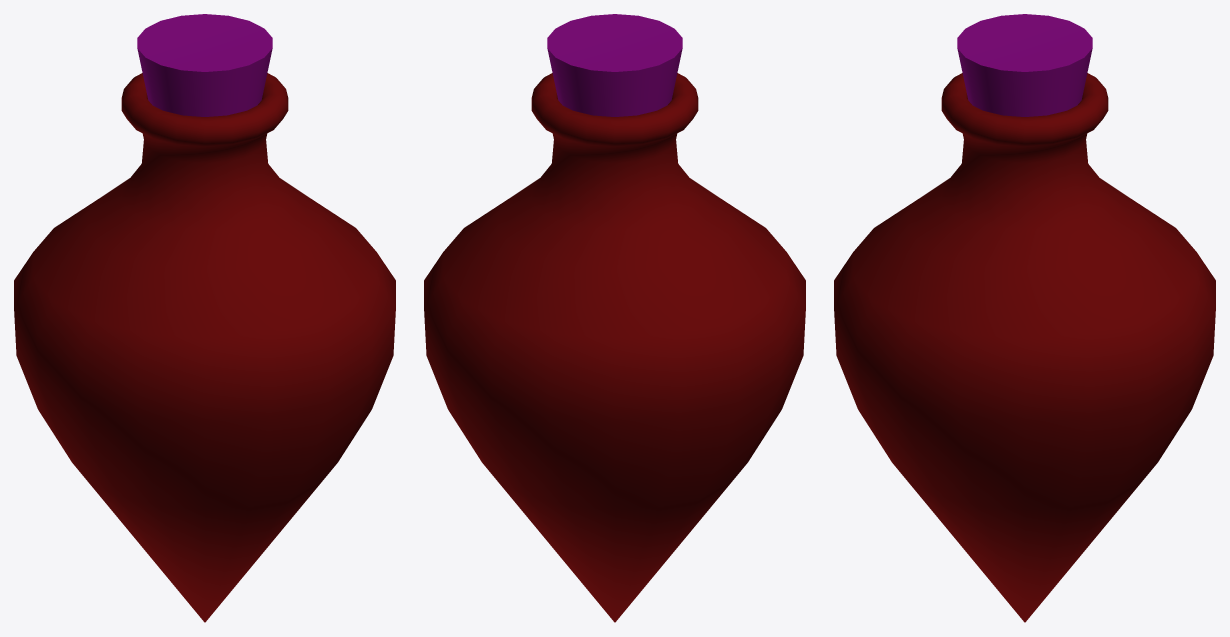
The model's file is liquidmedicine_strong_low_uv_id.FBX.
3 renders of one model, left to right at view 1: azimuth 30°, elevation 25°; view 2: azimuth 150°, elevation 25°; view 3: azimuth 270°, elevation 25°, orthographic.
Visible parts, largest first — view 1: Cylinder002; view 2: Cylinder002; view 3: Cylinder002.
Part boxes in pixels (<box>): Cylinder002: <box>14,14,395,622</box>; Cylinder002: <box>424,14,805,622</box>; Cylinder002: <box>834,14,1215,622</box>.
Bounding box in the file's own units: 3.61 × 5.96 × 3.56.
